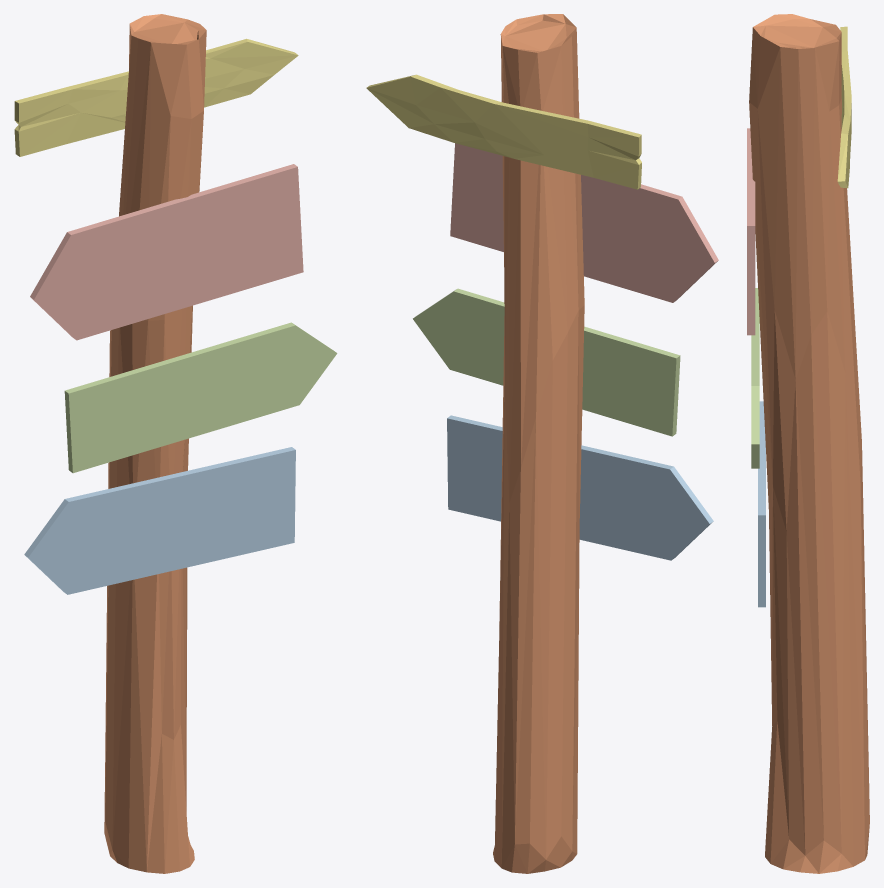
Rendered from Signboard.glb.
3 renders of one model, left to right at view 1: azimuth 30°, elevation 25°; view 2: azimuth 150°, elevation 25°; view 3: azimuth 270°, elevation 25°, orthographic.
Parts seen in each view (by area): view 1: Sing Post, Board 1, Board 3, Board 2, Board 4; view 2: Sing Post, Board 1, Board 3, Board 4, Board 2; view 3: Sing Post, Board 1, Board 4, Board 3, Board 2.
Boxes of the visible parts, x1=… form: Sing Post: x1=104, y1=14, x2=206, y2=873; Board 1: x1=30, y1=164, x2=303, y2=340; Board 3: x1=24, y1=447, x2=295, y2=594; Board 2: x1=64, y1=322, x2=337, y2=473; Board 4: x1=14, y1=38, x2=298, y2=156; Sing Post: x1=493, y1=14, x2=584, y2=873; Board 1: x1=450, y1=143, x2=718, y2=302; Board 3: x1=447, y1=415, x2=713, y2=560; Board 4: x1=366, y1=74, x2=641, y2=189; Board 2: x1=413, y1=288, x2=680, y2=436; Sing Post: x1=749, y1=14, x2=869, y2=873; Board 1: x1=747, y1=128, x2=755, y2=335; Board 4: x1=837, y1=26, x2=851, y2=188; Board 3: x1=758, y1=401, x2=765, y2=607; Board 2: x1=751, y1=288, x2=759, y2=468.
Bounding box in the file's own units: 1.94 × 4.96 × 0.6644.
